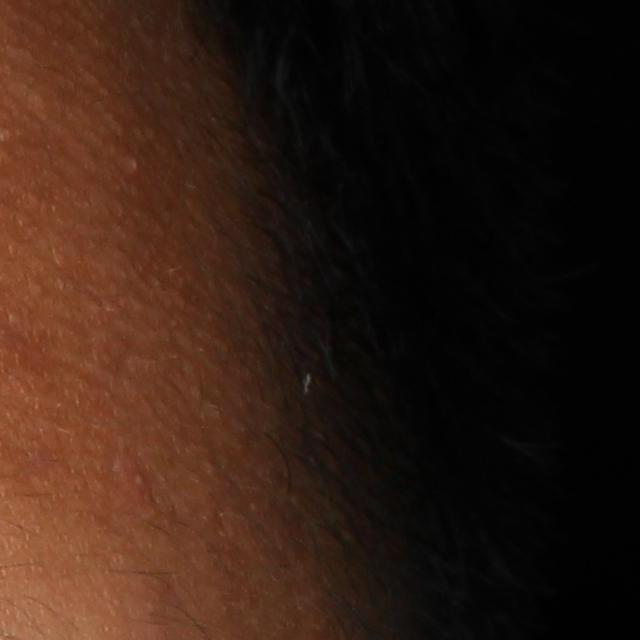comedo: (126, 153, 142, 174)
